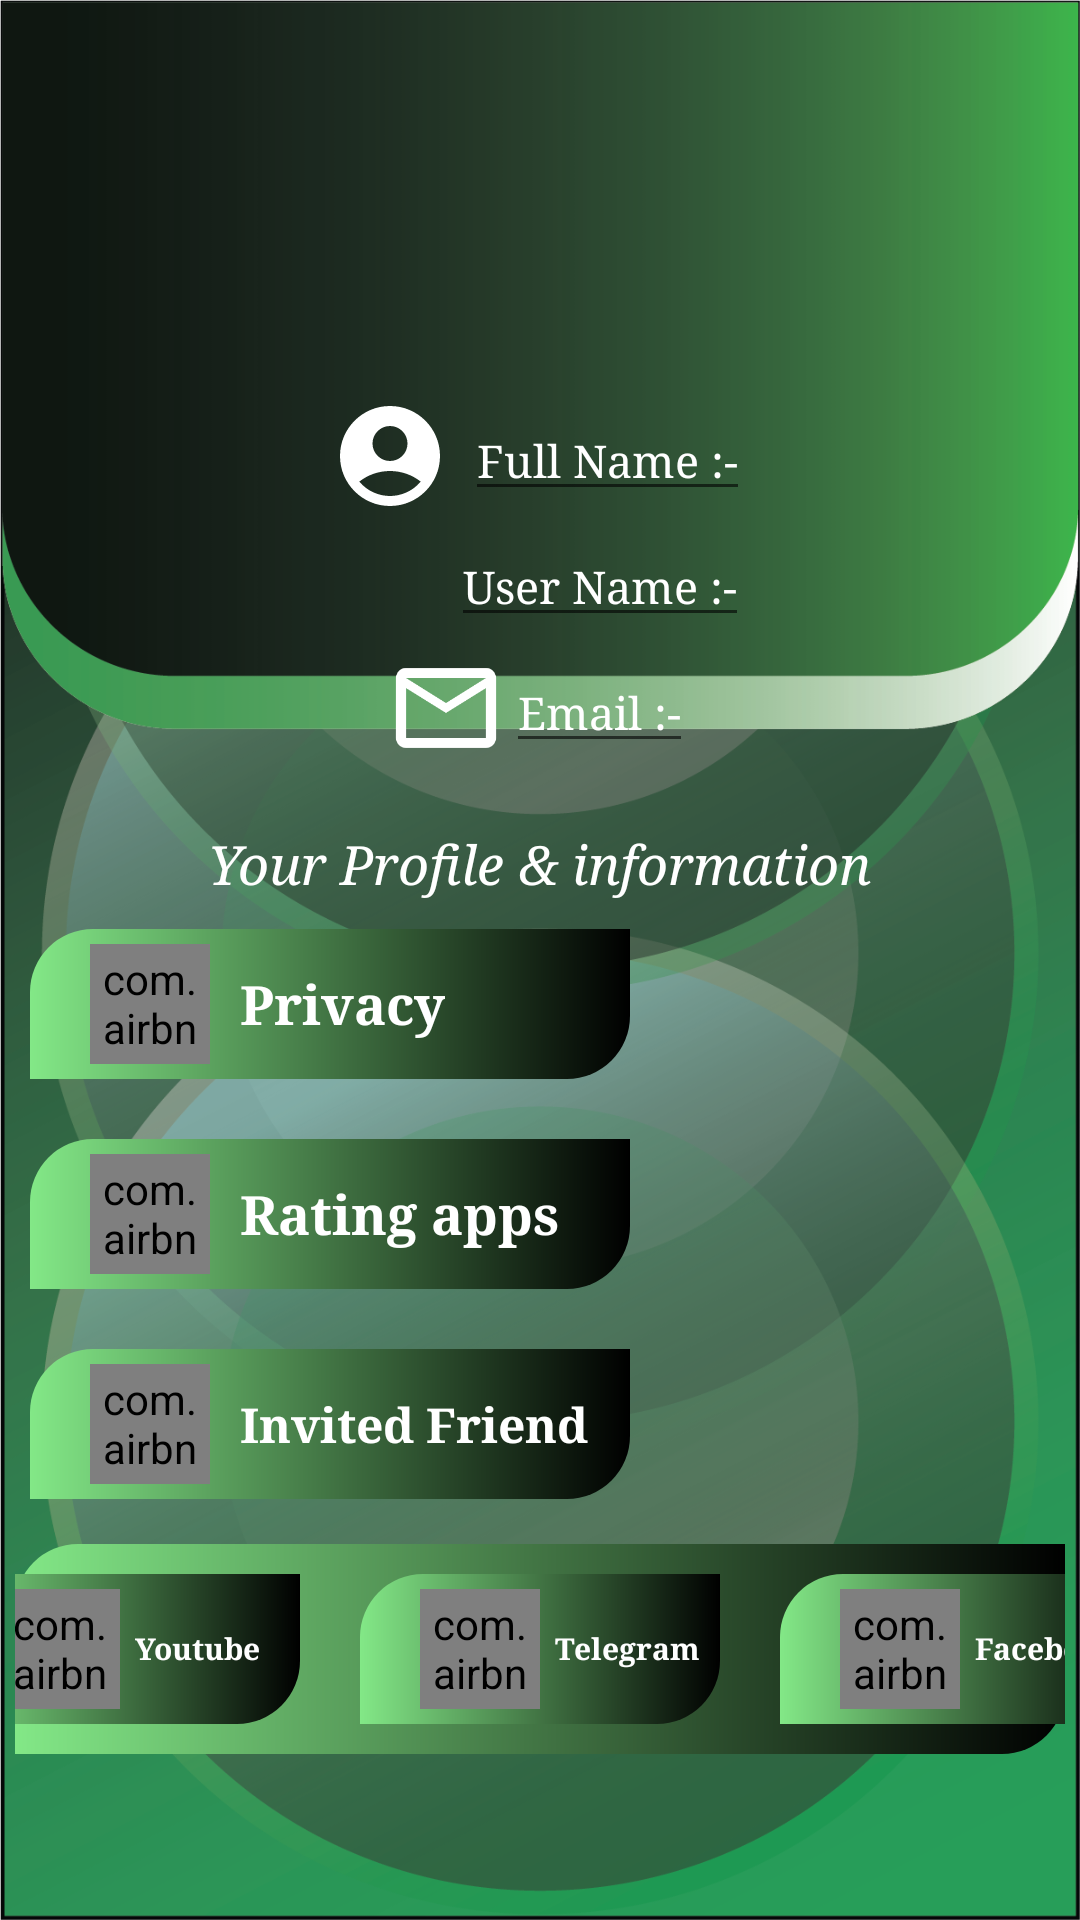

Where to tap for icons on this 1080px x 1920px app screen, as point (x, y):
account: point (390, 456)
